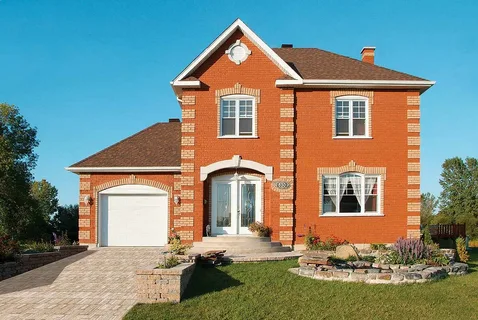private_hause: (118, 31, 428, 253)
